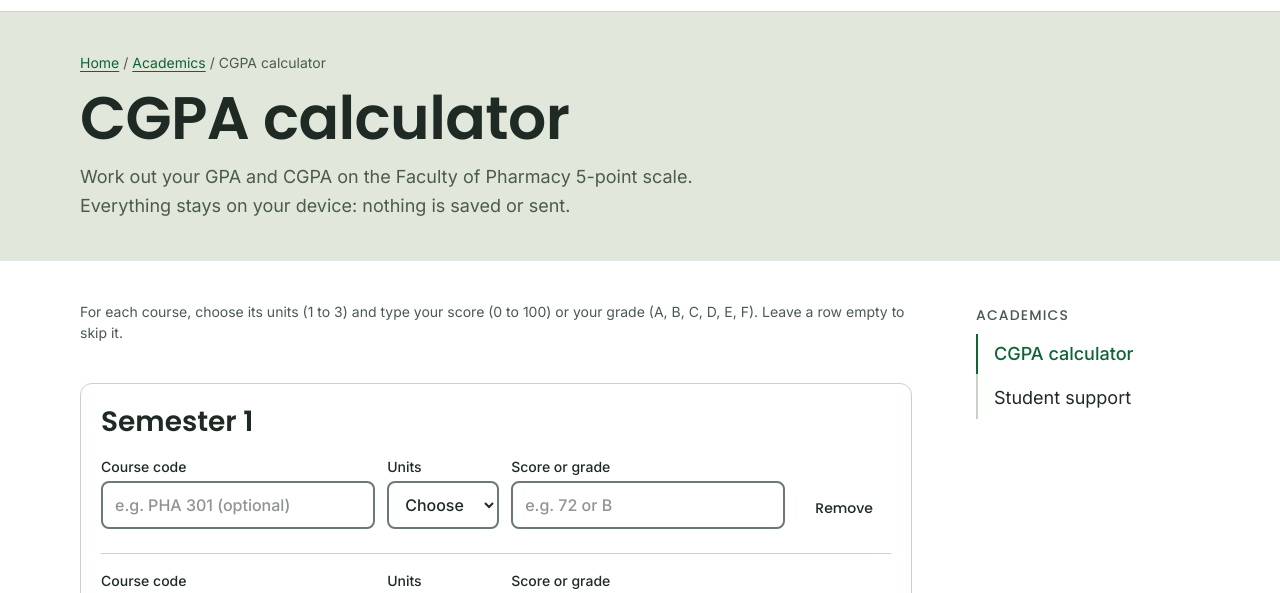
it: CGPA calculator › works out GPA and CGPA from scores and grades, to 2 decimal places
The image size is (1280, 593).
Expected: the heading "CGPA calculator" is shown, [80, 76, 569, 160]
Select "3" in the 1st dropdown labelled "Units" at point(443, 505), box [387, 481, 499, 529]
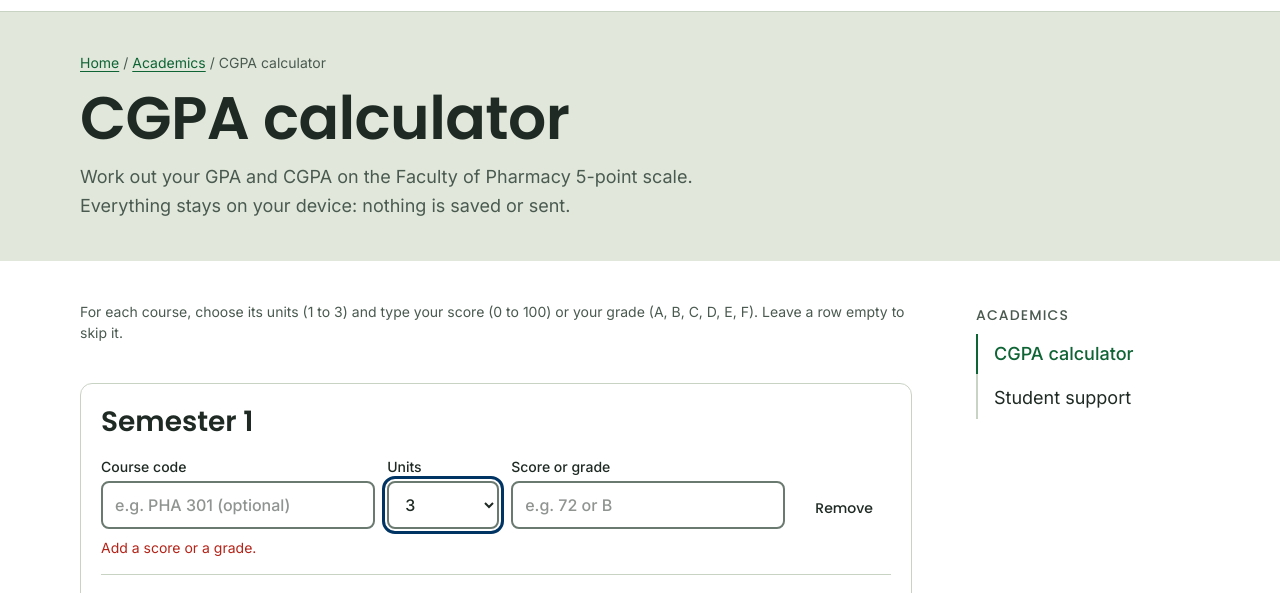
Type "72" into the 1st field labelled "Score or grade" at point(648, 505), box [511, 481, 785, 529]
(page scrolled)
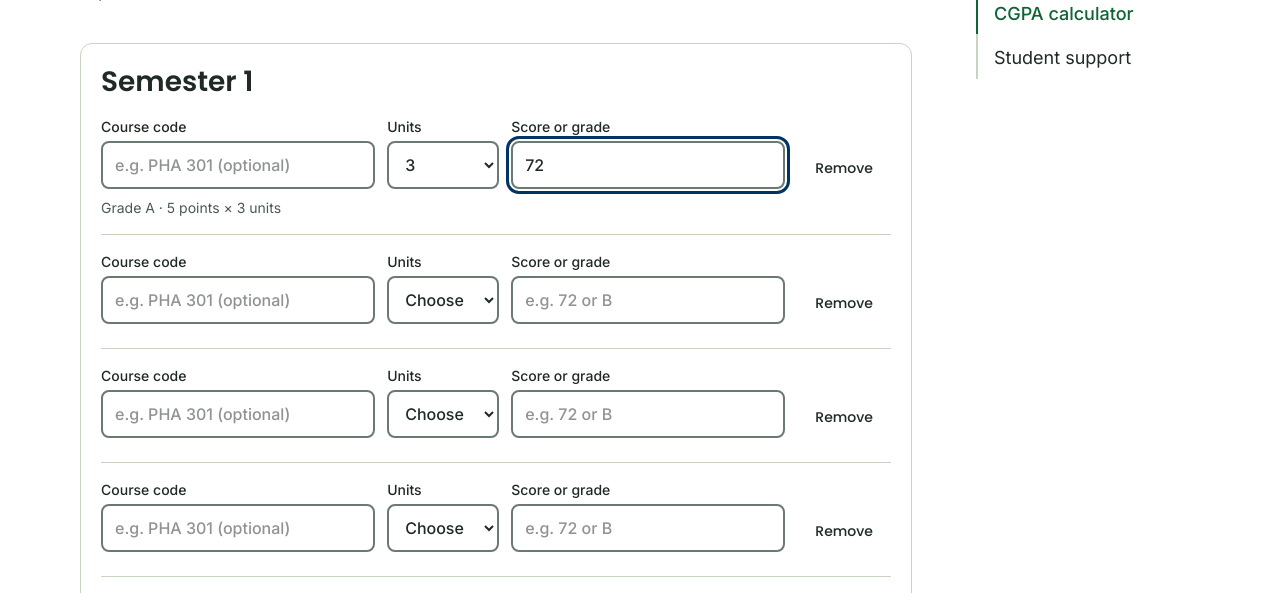
Select "2" in the 2nd dropdown labelled "Units" at point(443, 300), box [387, 276, 499, 324]
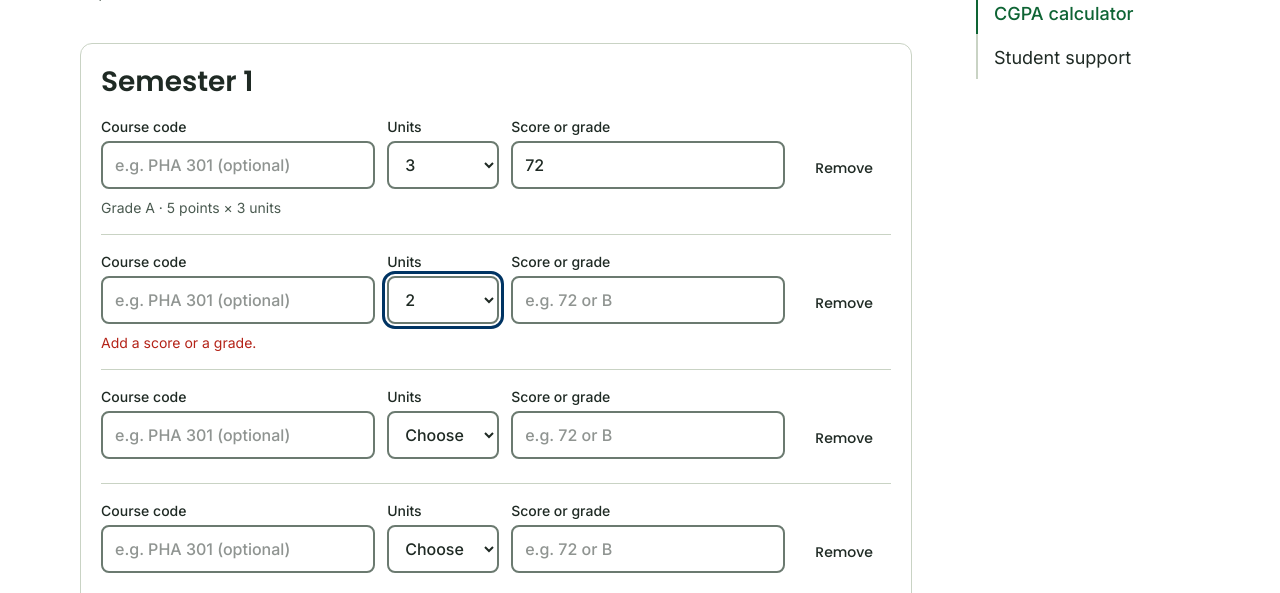
Type "b" into the 2nd field labelled "Score or grade" at point(648, 300), box [511, 276, 785, 324]
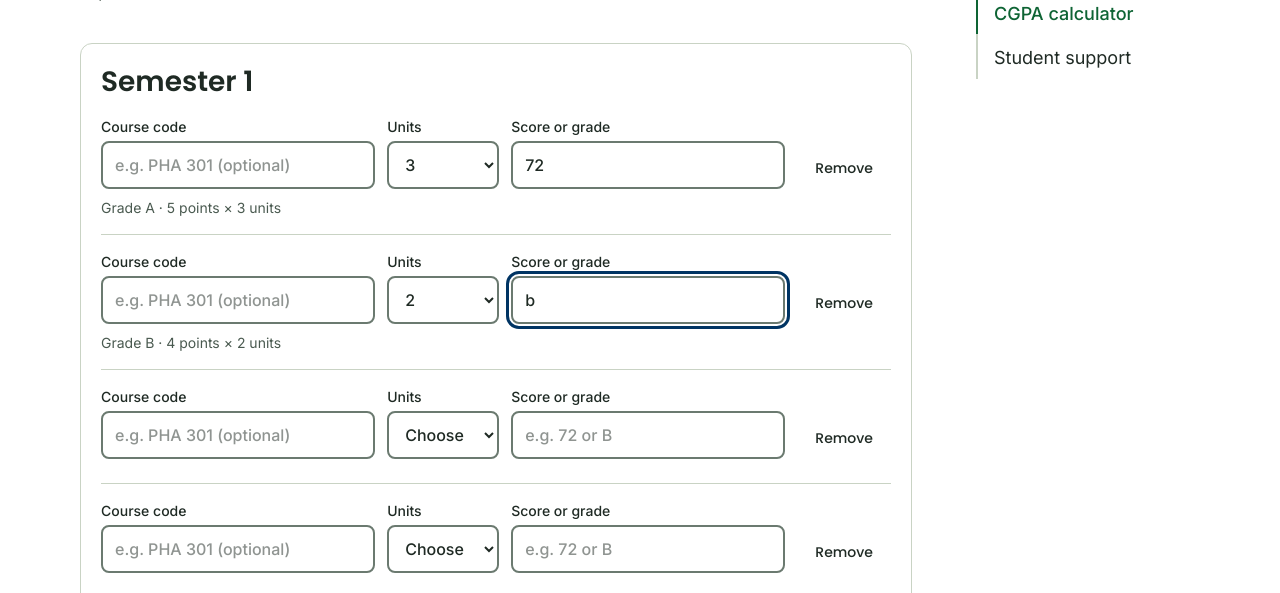
Select "1" in the 3rd dropdown labelled "Units" at point(443, 435), box [387, 411, 499, 459]
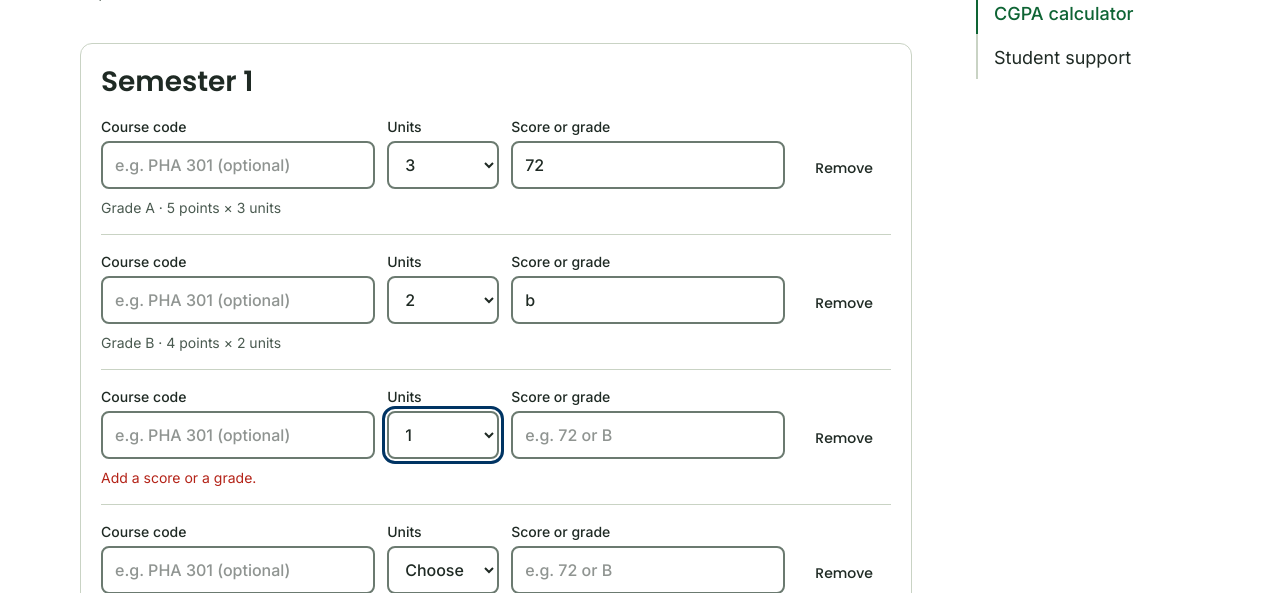
Type "46" into the 3rd field labelled "Score or grade" at point(648, 435), box [511, 411, 785, 459]
(page scrolled)
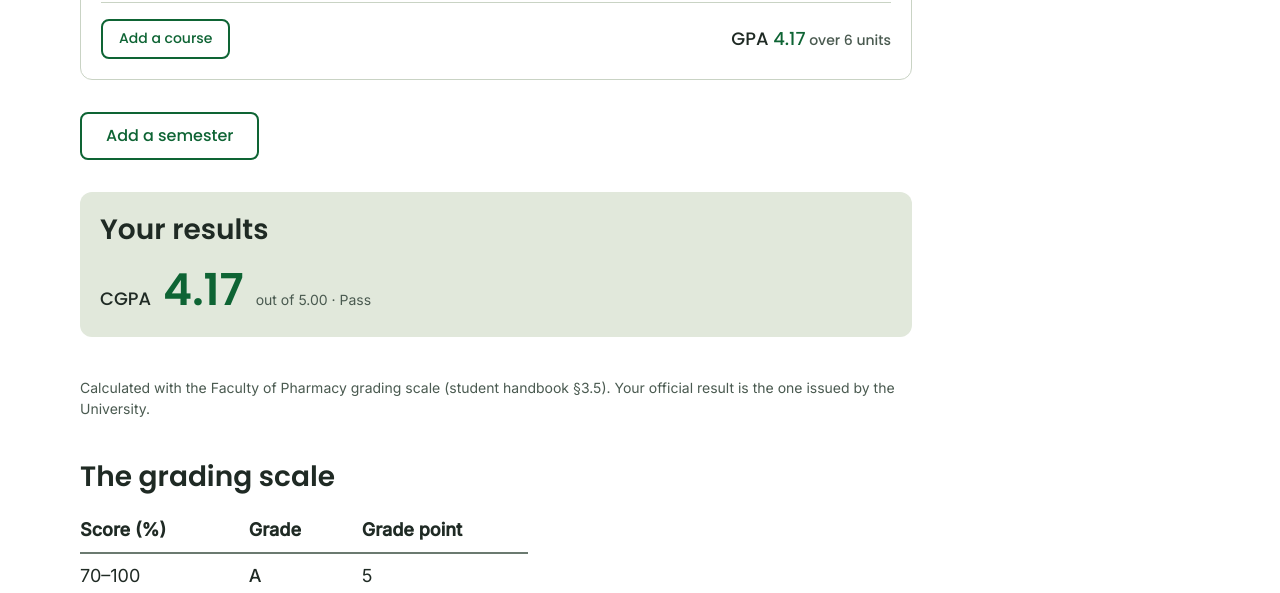
Expected: the 1st text "4.17" is shown, [773, 26, 806, 51]
Expected: the text "over 6 units" is shown, [806, 30, 891, 50]
Expected: the text "4.17" next to "out of 5.00 ·" is shown, [163, 259, 244, 320]
